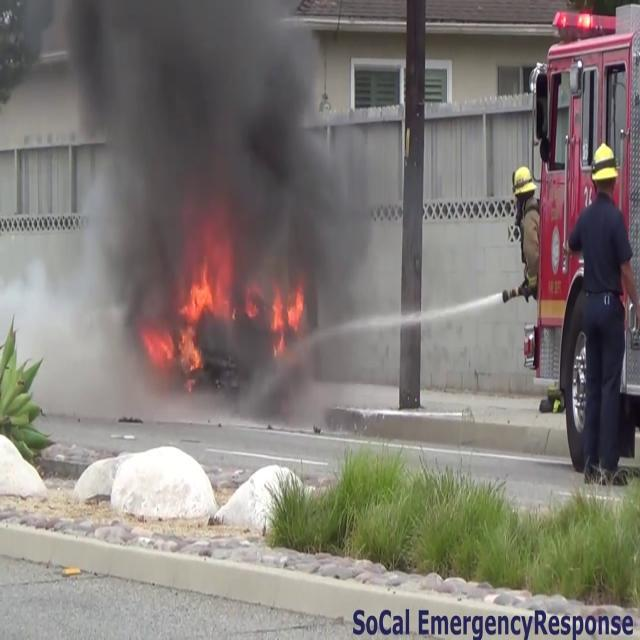Fire: (164, 228, 236, 386), (270, 278, 306, 352)
Smoke: (54, 1, 363, 354)
